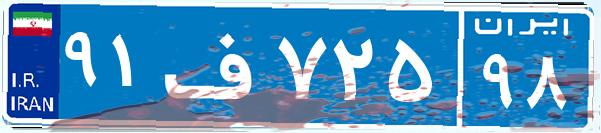1: (110, 28, 158, 105)
2: (330, 28, 385, 110)
5: (385, 28, 445, 110)
7: (273, 28, 330, 110)
8: (525, 38, 570, 115)
9: (57, 26, 110, 107), (475, 38, 525, 113)
ف: (158, 15, 273, 115)
